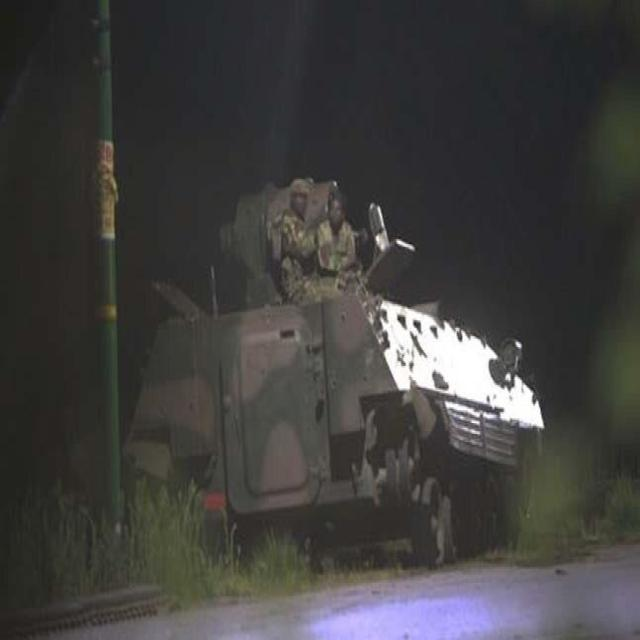MIL_MBT: (136, 217, 535, 558)
